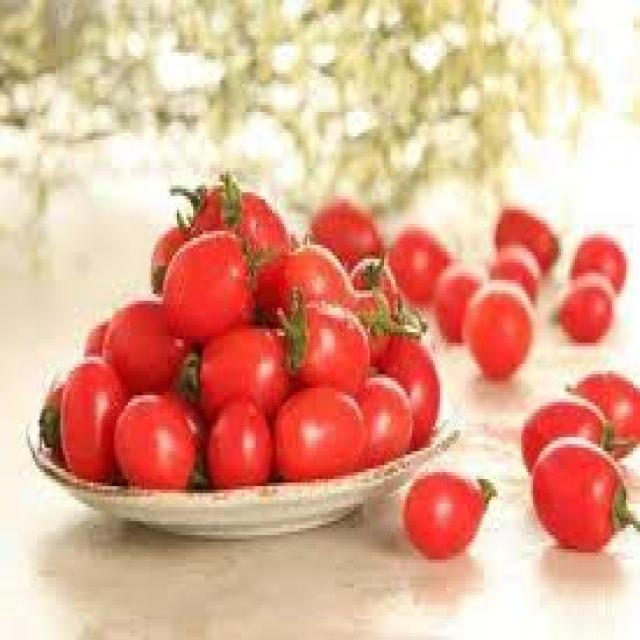food_waste: (42, 175, 556, 486), (519, 371, 638, 549), (403, 472, 491, 556), (559, 234, 626, 339)
